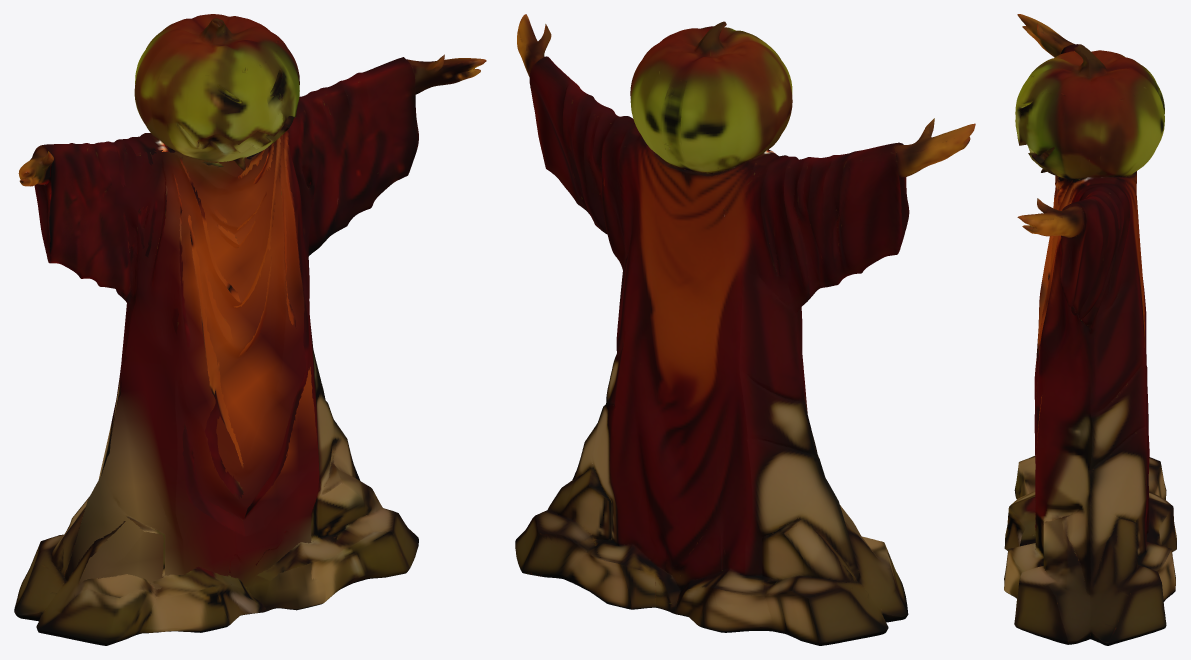
Rendered from base_basic_shaded.fbx.
3 renders of one model, left to right at view 1: azimuth 30°, elevation 25°; view 2: azimuth 150°, elevation 25°; view 3: azimuth 270°, elevation 25°, orthographic. The views are drawn at different scales.
Parts seen in each view (by area): view 1: model; view 2: model; view 3: model.
Part boxes in pixels (<box>): model: <box>14,14,486,645</box>; model: <box>515,14,975,645</box>; model: <box>1004,14,1176,645</box>.
Size of the model in its own units: 160 by 190 by 57.19.
